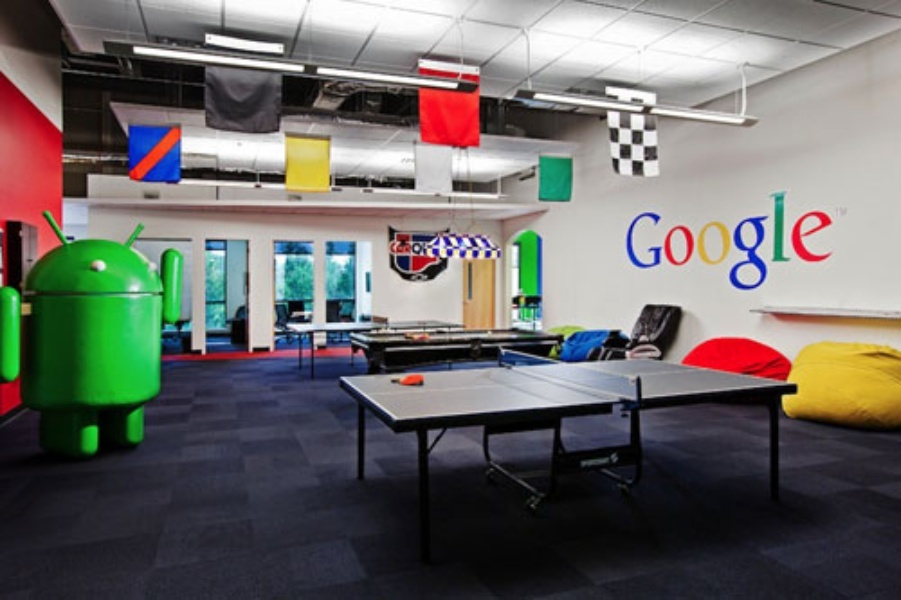text: (641, 186, 656, 291), (657, 186, 672, 291), (673, 186, 688, 291), (689, 186, 704, 291), (705, 186, 720, 291), (721, 186, 736, 291), (737, 186, 752, 291), (753, 186, 768, 291), (769, 186, 784, 291), (785, 186, 800, 291), (801, 186, 816, 291), (817, 186, 832, 291), (626, 186, 640, 291), (833, 186, 835, 291), (401, 242, 416, 256), (835, 206, 848, 219), (417, 242, 428, 256), (390, 242, 400, 256)
